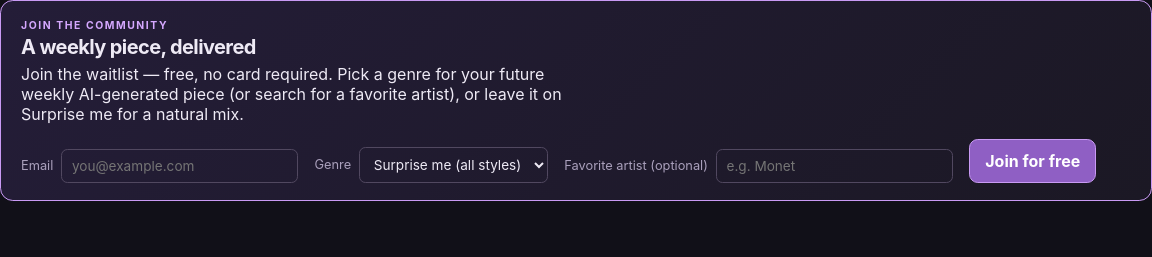
Subscribe › shows an error message rather than crashing when the request fails
Step 1. Type "visitor@example.com" into the field named "Email address" → (180, 166), box top-left (61, 148), bottom-right (298, 182)
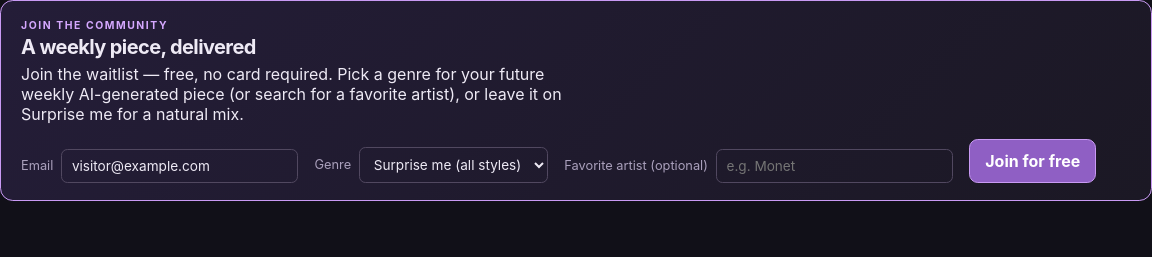
Step 2. Click the button "Join for free" → (1033, 161), box top-left (969, 139), bottom-right (1096, 183)
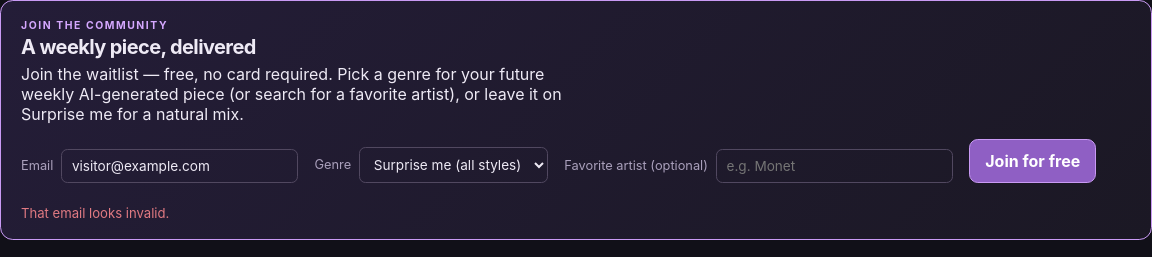
Result: the text "That email looks invalid." is shown at top-left (21, 205), bottom-right (169, 221)
